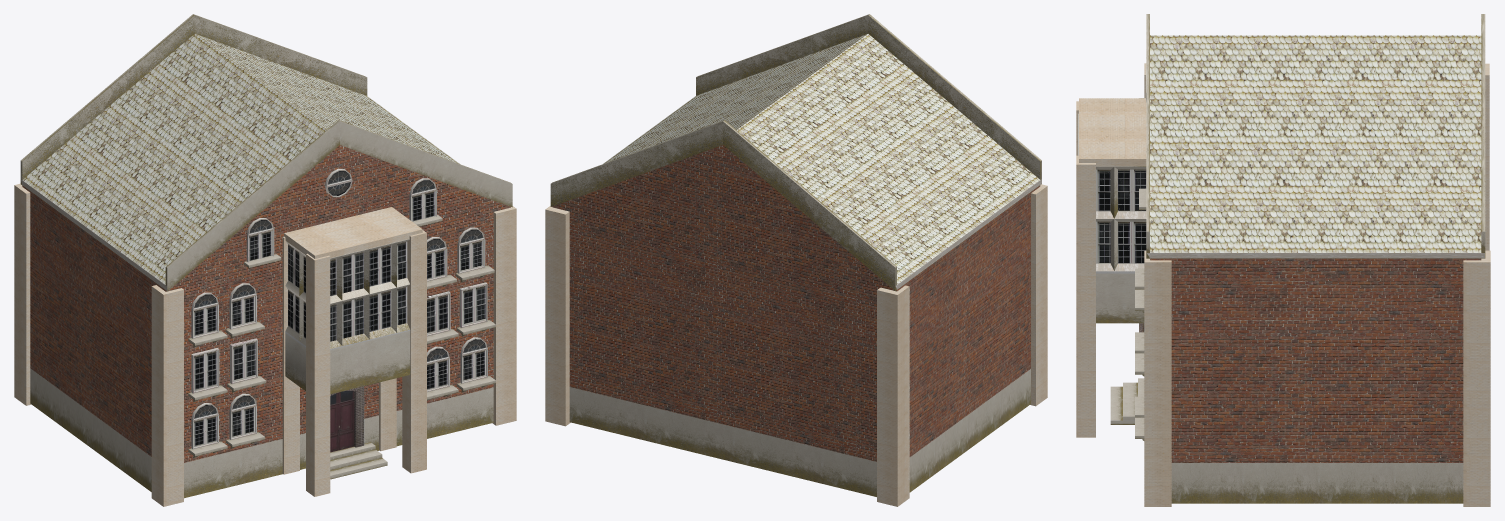
Rendered from city3_h16.fbx.
3 views of the same model, side by side, from view 1: azimuth 30°, elevation 25°; view 2: azimuth 150°, elevation 25°; view 3: azimuth 270°, elevation 25° (orthographic). The views are drawn at different scales.
Parts seen in each view (by area): view 1: Default_Layer; view 2: Default_Layer; view 3: Default_Layer.
Boxes of the visible parts, x1,y1,x2,y2 form: Default_Layer: (14, 14, 516, 506); Default_Layer: (545, 14, 1047, 506); Default_Layer: (1076, 14, 1490, 506).
Bounding box in the file's own units: 819 × 757 × 721.
